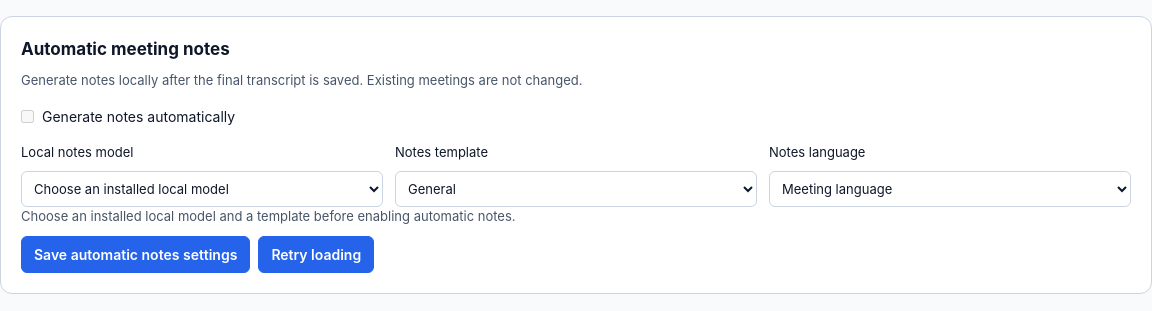
preserves selected settings after a failed save and explains how to retry
Step 1. Select "local:latest" in the dropdown labelled "Local notes model" → (202, 188), box [21,170,383,206]
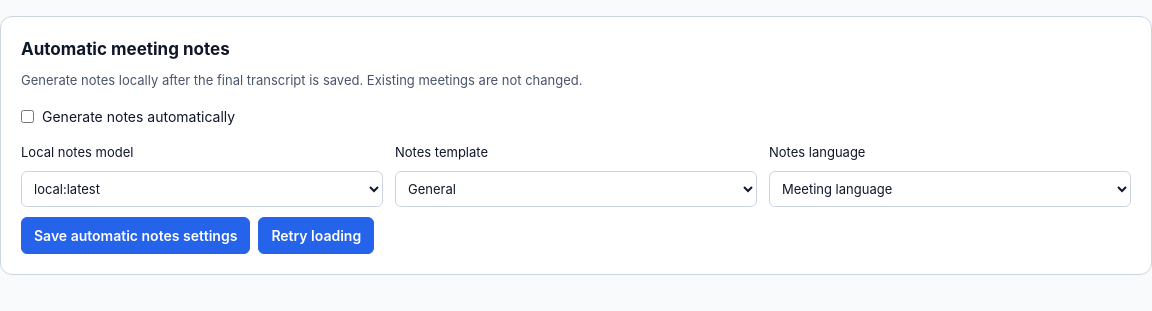
Step 2. Select "German" in the dropdown labelled "Notes language" → (950, 188), box [769,170,1131,206]
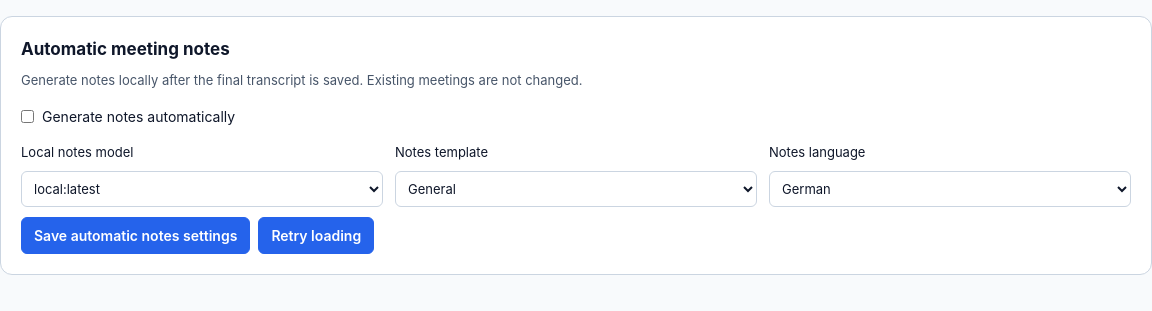
Step 3. Click the checkbox → (28, 116), box [21,110,34,123]
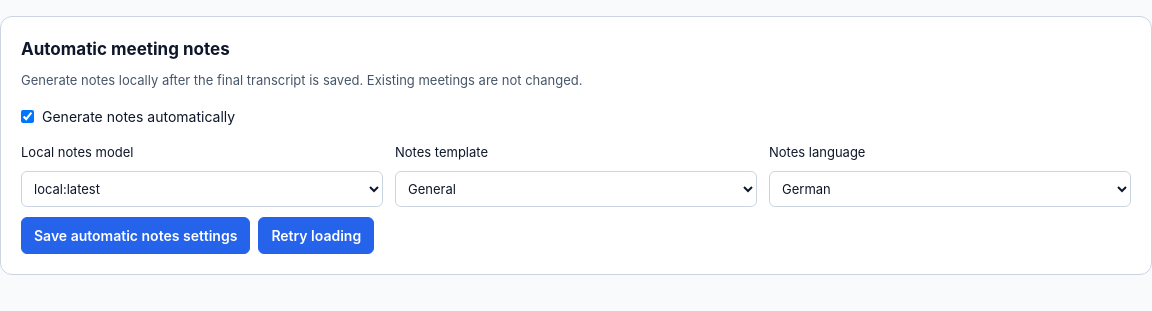
Step 4. Click the button "Save automatic notes settings" → (136, 235), box [21,216,250,254]
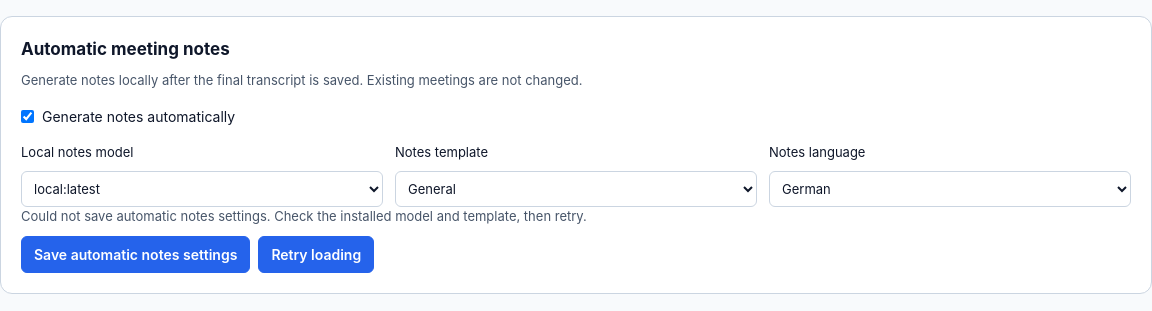
Expected: the checkbox is checked, [21,110,34,123]
Expected: the message shows "Could not save automatic notes settings", [21,208,587,224]
Step 5. Click the button "Save automatic notes settings" → (136, 254), box [21,236,250,273]
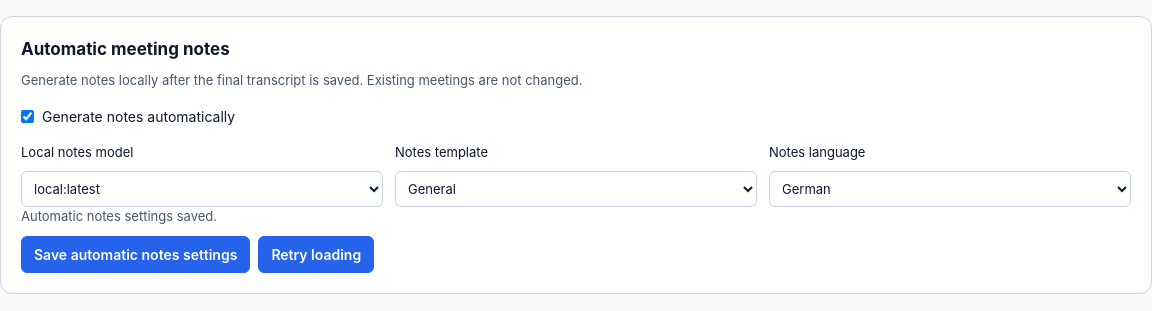
Expected: the message reads "Automatic notes settings saved.", [21,208,217,224]
